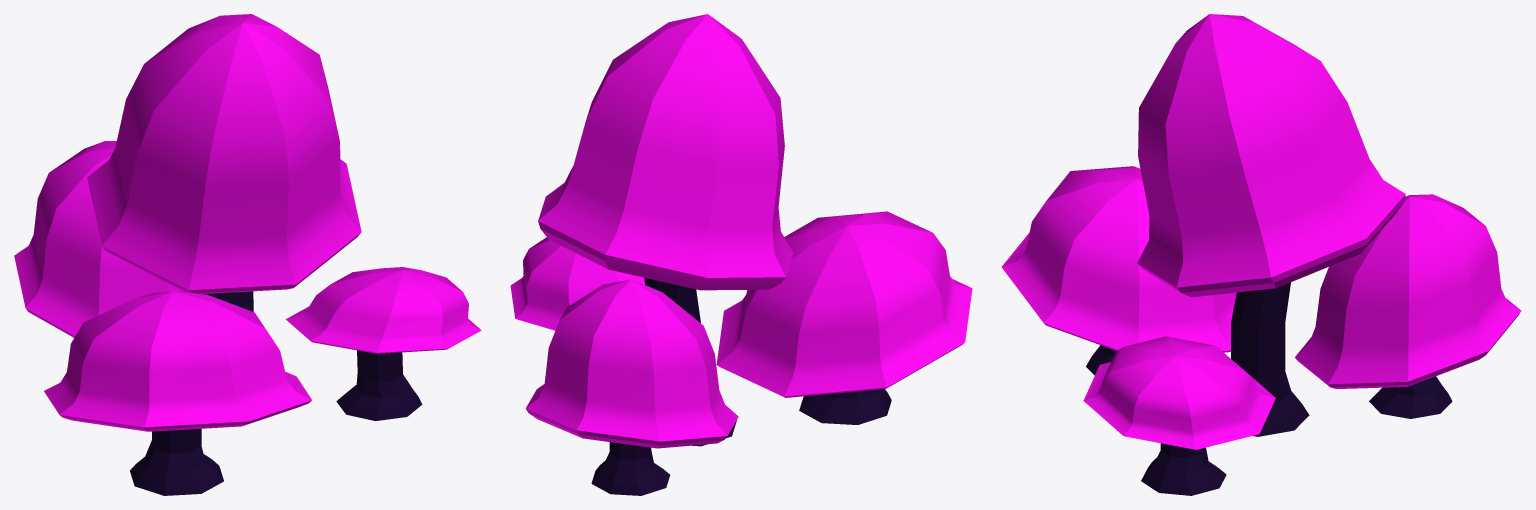
The model's file is MushroomCluster_2.fbx.
3 views of the same model, side by side, from view 1: azimuth 30°, elevation 25°; view 2: azimuth 150°, elevation 25°; view 3: azimuth 270°, elevation 25° (orthographic). The views are drawn at different scales.
Visible parts, largest first — view 1: MushroomCluster_2; view 2: MushroomCluster_2; view 3: MushroomCluster_2.
Part boxes in pixels (bbox=[...]): MushroomCluster_2: bbox=[14, 14, 481, 495]; MushroomCluster_2: bbox=[510, 14, 972, 495]; MushroomCluster_2: bbox=[1001, 14, 1521, 495].
Bounding box in the file's own units: 59.28 × 52.75 × 61.65.
